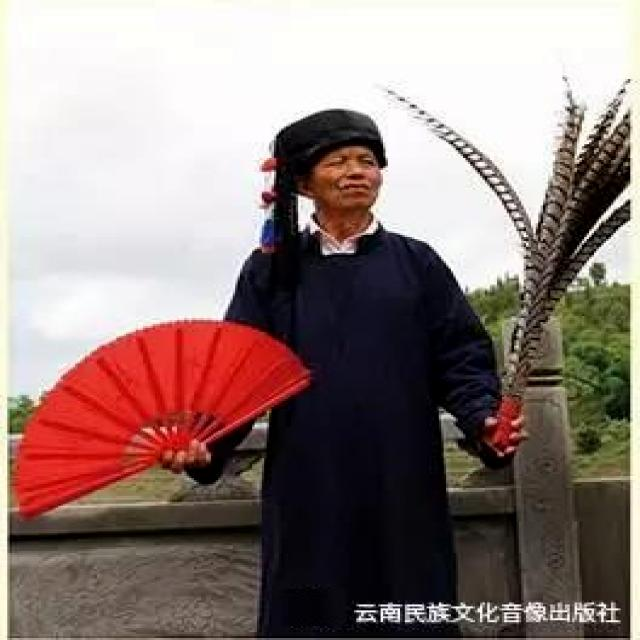Chrysolophus amherstiae: (389, 77, 629, 419)
